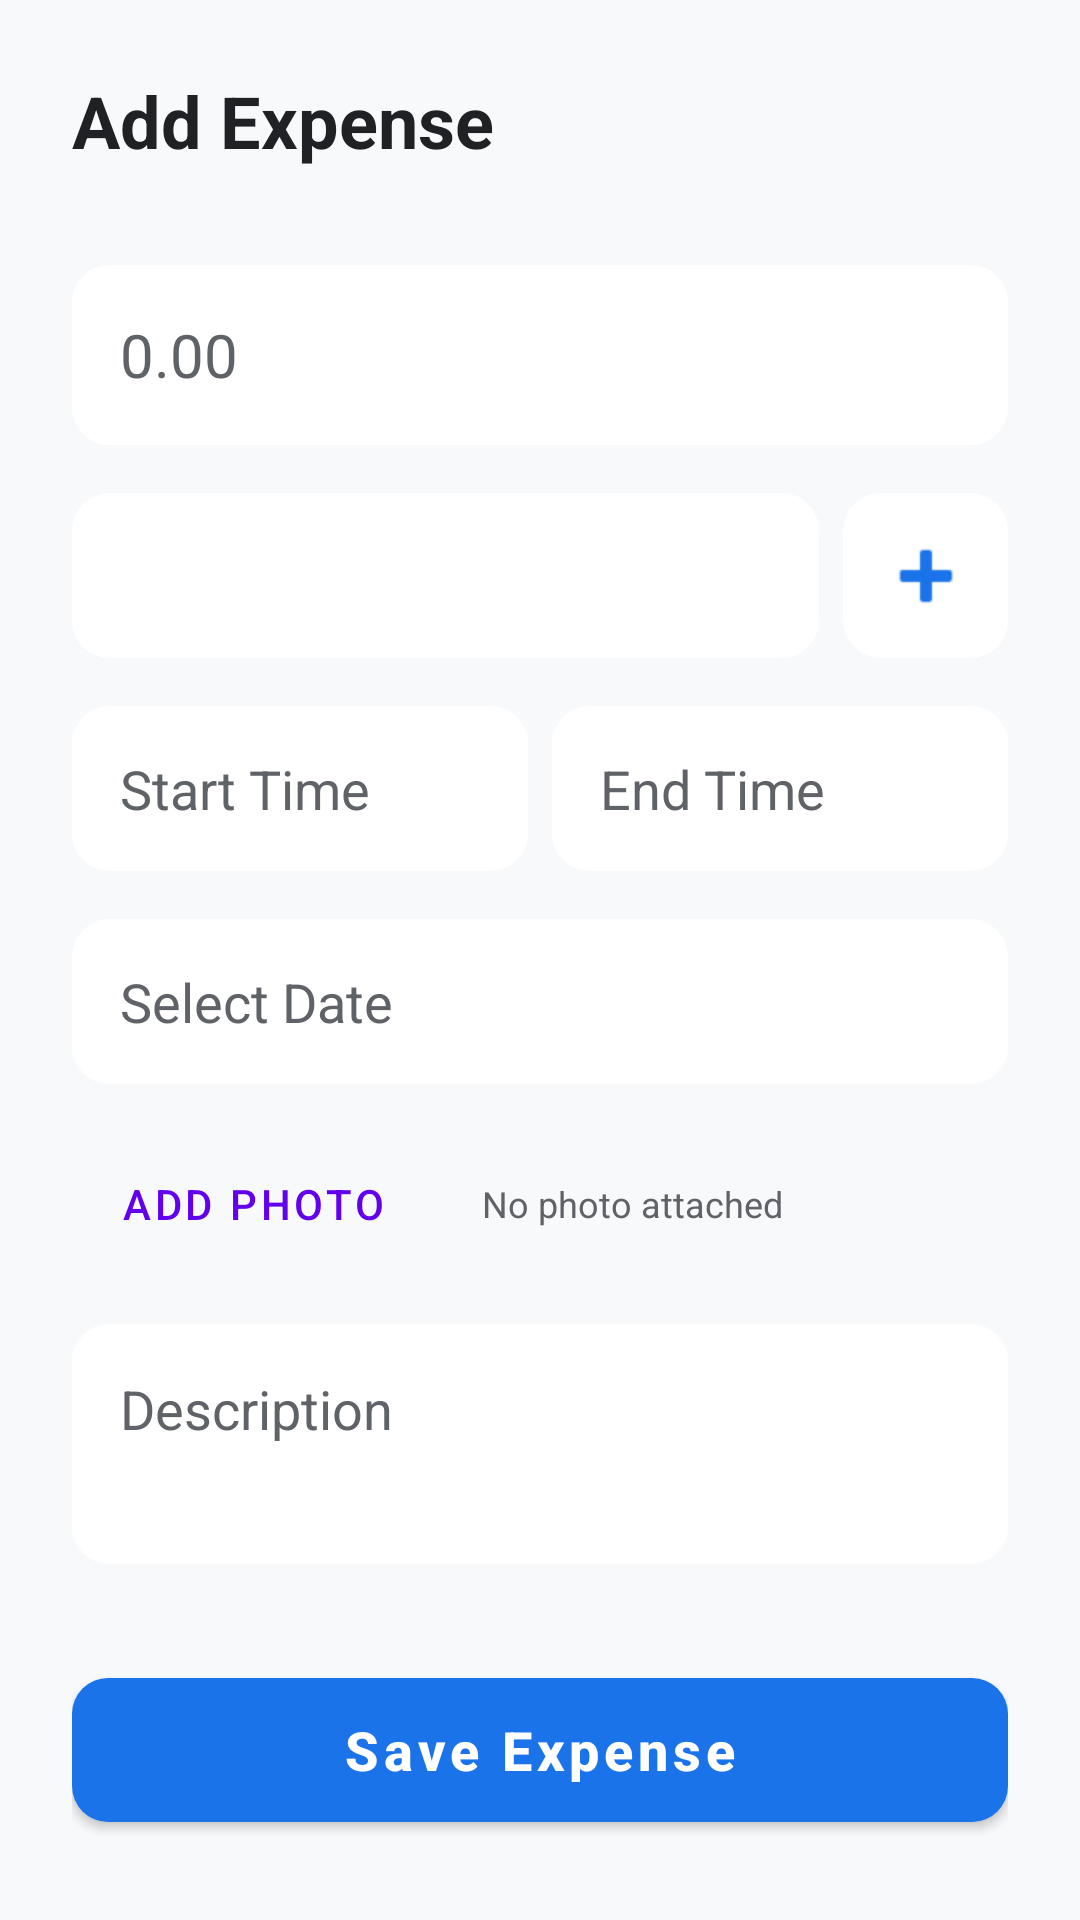

Screen size 1080w x 1920h. Icon name, then its box in pixels as (x1, y1, x2, y2):
add: (899, 549, 953, 603)
